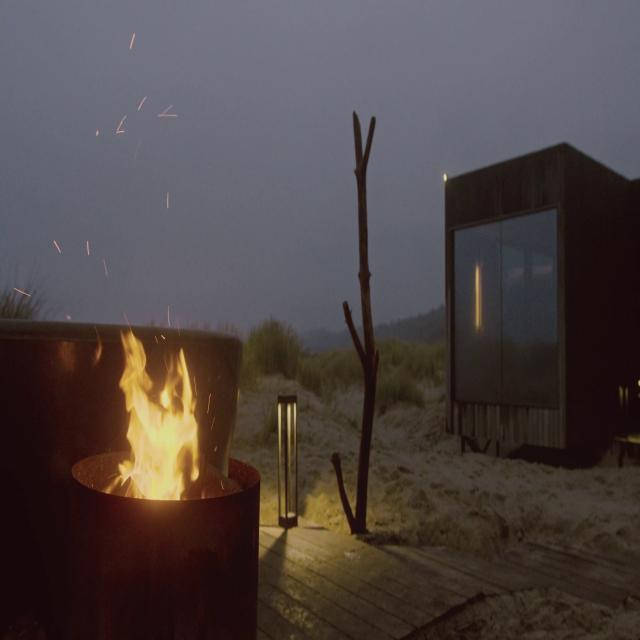Fire: (108, 327, 203, 503)
